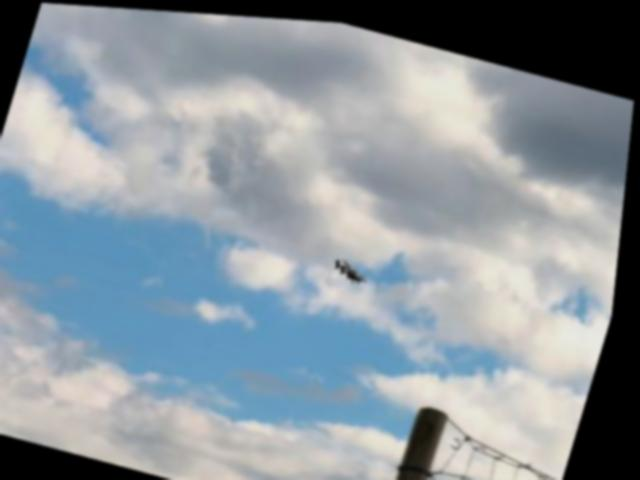uav: (333, 245, 382, 283)
